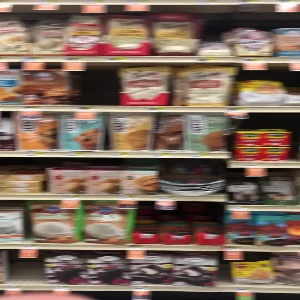void: (71, 61, 119, 105), (7, 246, 46, 288)
